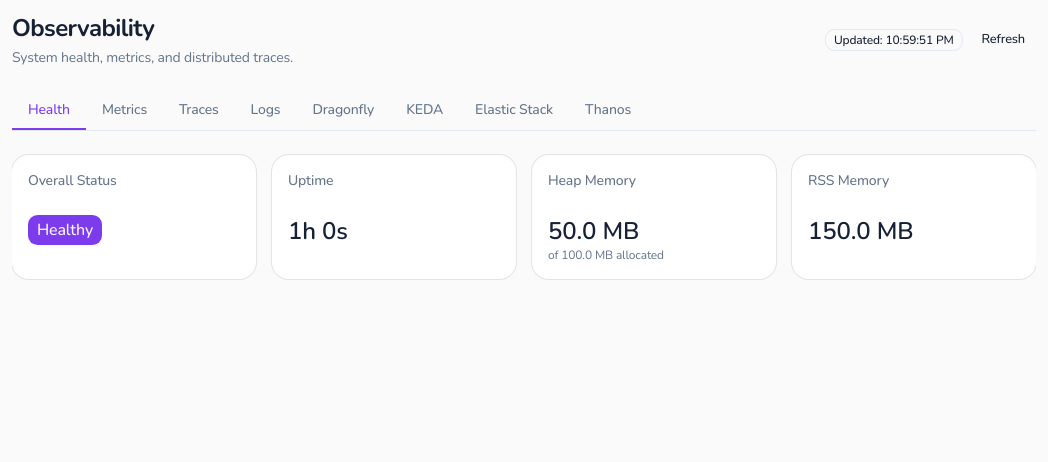
Test: ObservabilityPage › should switch to Traces tab and show service selector
Expected: the text "Overall Status" is shown, left=28, top=171, right=117, bottom=190
Click the button "Traces" at (199, 111), box left=163, top=92, right=235, bottom=130
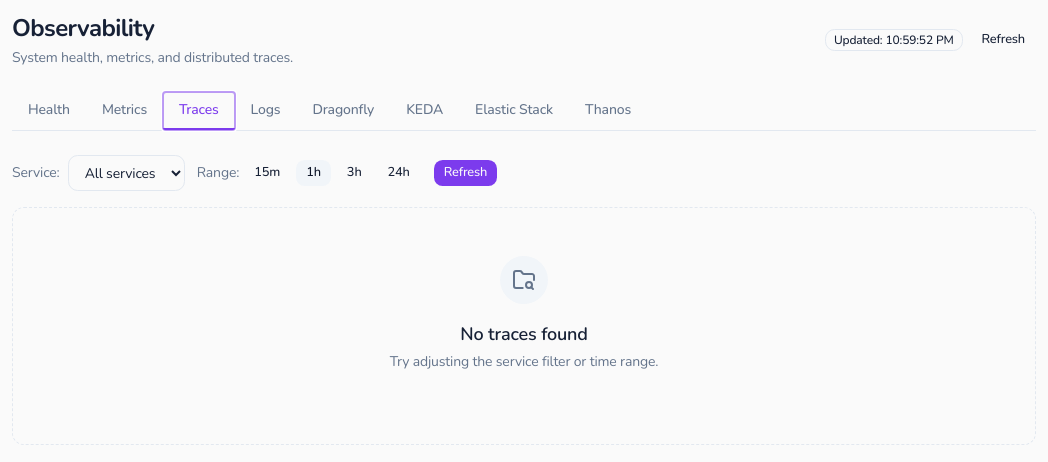
Expected: the text "Range:" is shown, left=197, top=163, right=239, bottom=183
